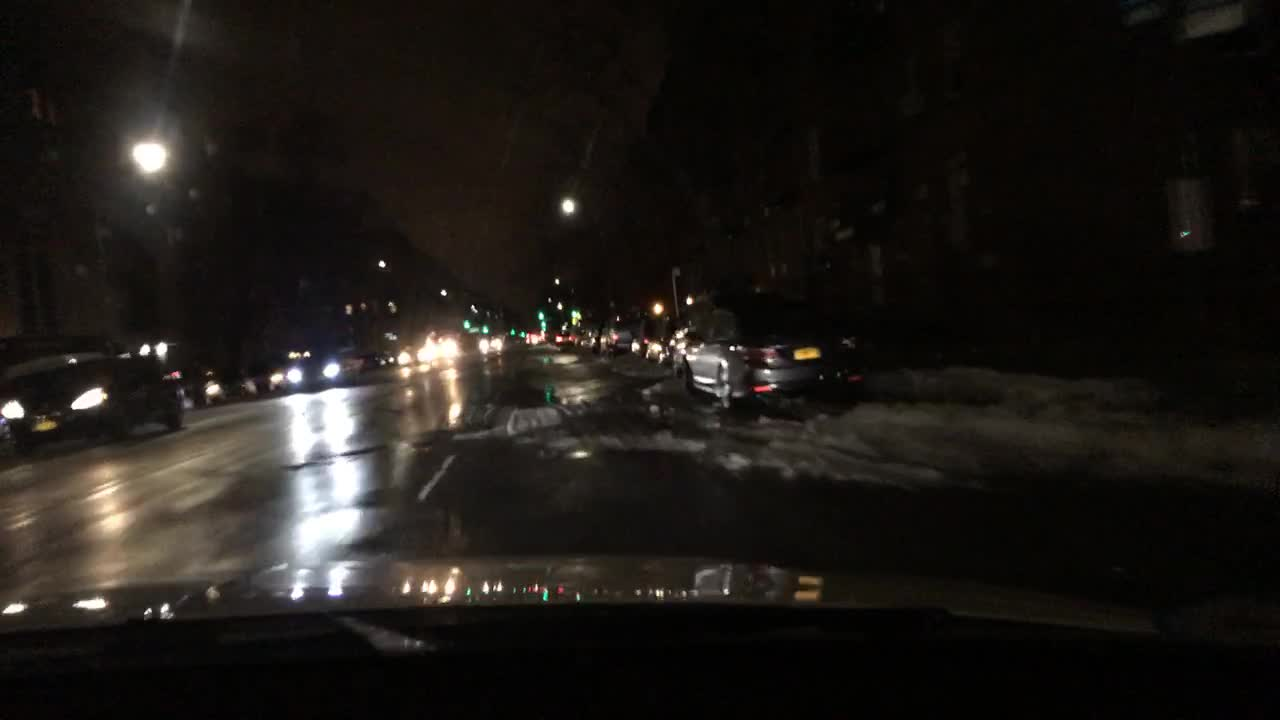car: (677, 290, 861, 416), (0, 348, 190, 456), (281, 346, 364, 391), (414, 327, 468, 367), (646, 318, 671, 364), (668, 324, 691, 370), (599, 322, 630, 355), (631, 313, 650, 355), (572, 325, 596, 351), (475, 333, 501, 355), (553, 325, 578, 346), (521, 328, 542, 343)
traffic light: (535, 307, 546, 319)
